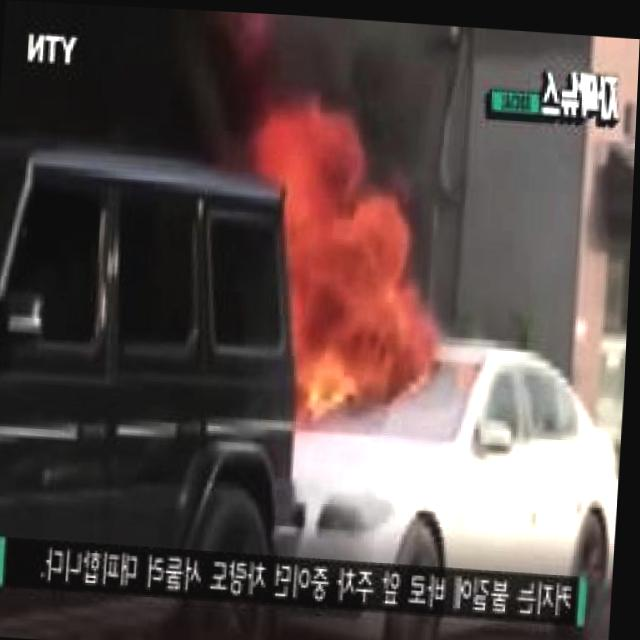Fire: (242, 104, 417, 413)
